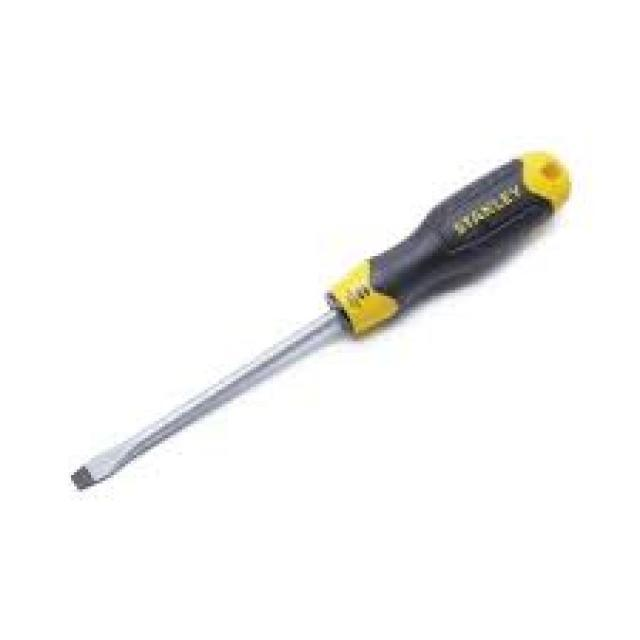screwdriver: (70, 146, 579, 494)
